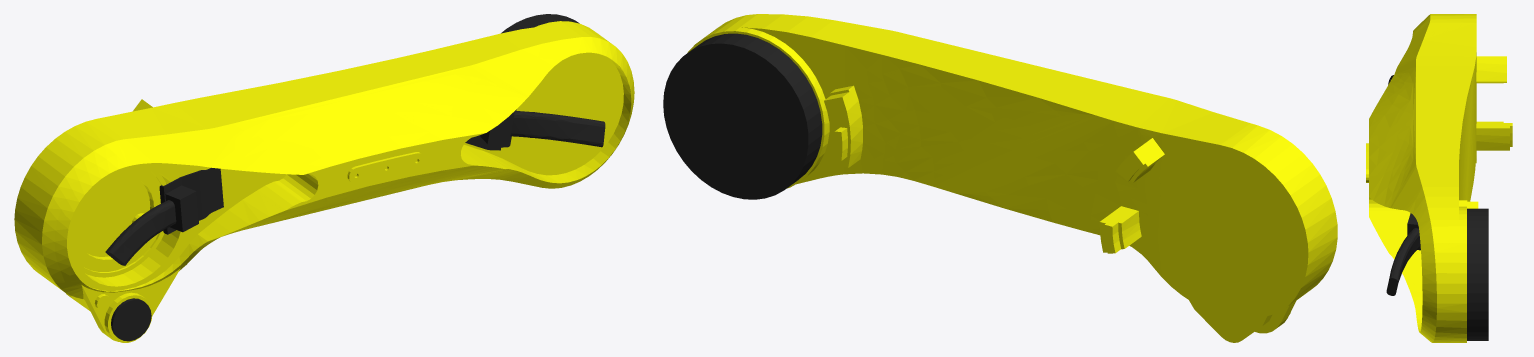
3 views of the same model, side by side, from view 1: azimuth 30°, elevation 25°; view 2: azimuth 150°, elevation 25°; view 3: azimuth 270°, elevation 25° (orthographic). The views are drawn at different scales.
Visible parts, largest first — view 1: node; view 2: node; view 3: node.
Boxes of the visible parts, <box> form: node: <box>14,14,634,342</box>; node: <box>663,14,1337,342</box>; node: <box>1366,14,1512,342</box>.
Size of the model in its own units: 1429 by 447 by 378.
